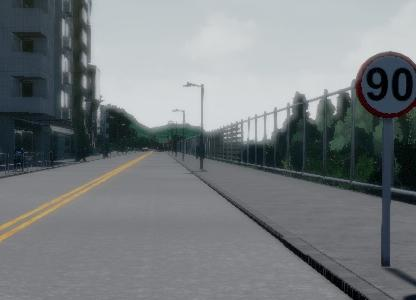Speed_90: (353, 48, 416, 123)
